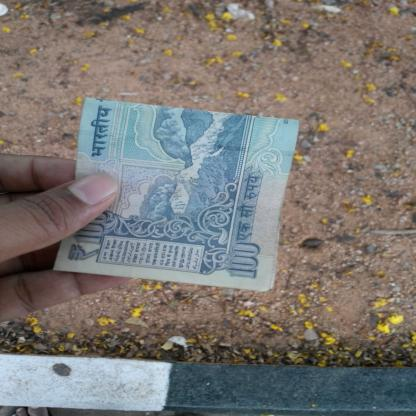Old100Back: (51, 96, 300, 292)
